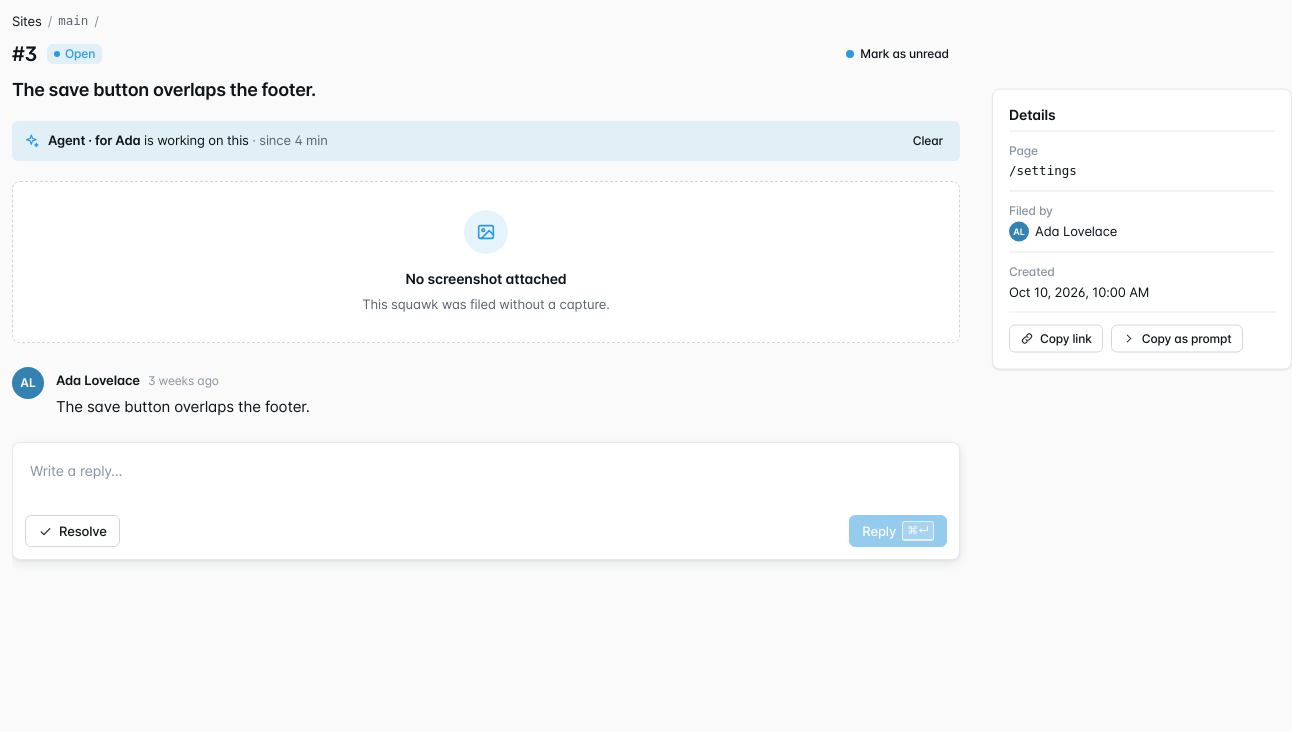
SquawkPage › shows who is working on it and clears the claim
The width and height of the screenshot is (1292, 732).
Expected: the text "Agent · for Ada is working on this · since 4 min Clear" is shown, [12, 121, 960, 161]
Click the button "Clear".
click(928, 141)  # box [902, 127, 954, 155]
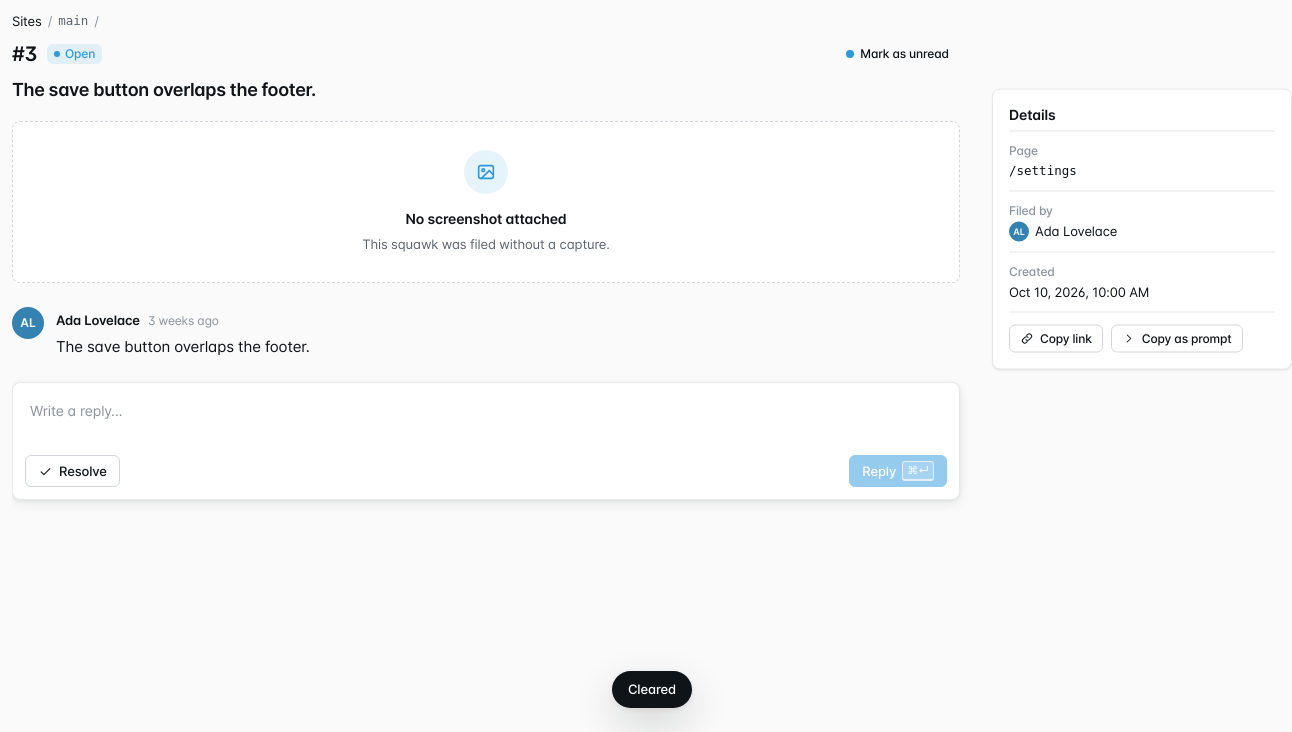
Expected: the text "is working on this" is gone
